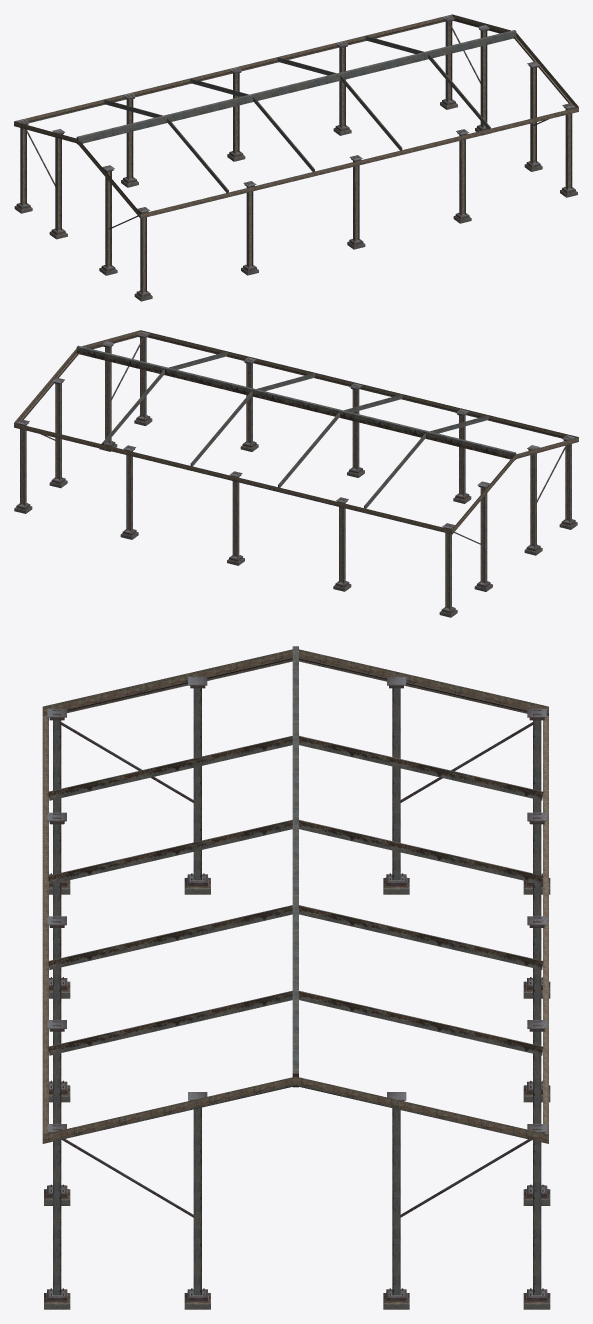
Rendered from openbuildinga001_id_3_metaltrim_dm_0_lev1.glb.
3 renders of one model, top to bottom at view 1: azimuth 30°, elevation 25°; view 2: azimuth 150°, elevation 25°; view 3: azimuth 270°, elevation 25°, orthographic. The views are drawn at different scales.
Visible parts, largest first — view 1: openbuildinga001_id_3_metaltrim_dm_0_lev1; view 2: openbuildinga001_id_3_metaltrim_dm_0_lev1; view 3: openbuildinga001_id_3_metaltrim_dm_0_lev1.
Boxes of the visible parts, left/top/right/bottom form: openbuildinga001_id_3_metaltrim_dm_0_lev1: left=14, top=14, right=578, bottom=301; openbuildinga001_id_3_metaltrim_dm_0_lev1: left=14, top=330, right=578, bottom=617; openbuildinga001_id_3_metaltrim_dm_0_lev1: left=42, top=646, right=550, bottom=1309.
Bounding box in the file's own units: 12.85 × 3.31 × 6.44.
Materials: 1 (1 with a texture image).
